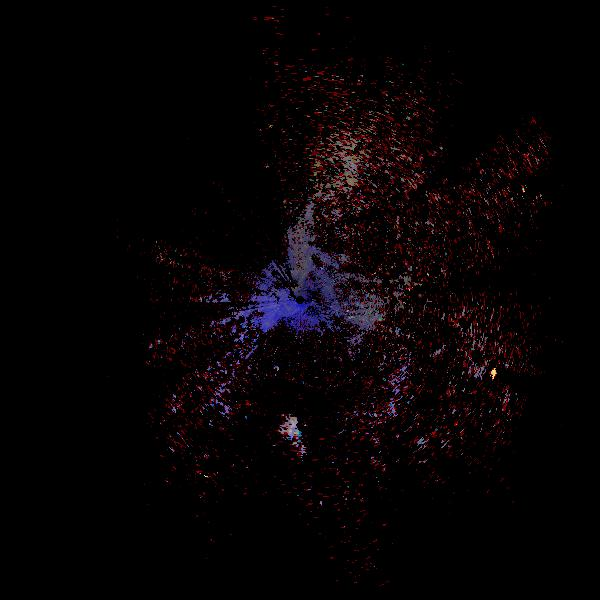roost: (281, 416, 296, 431)
